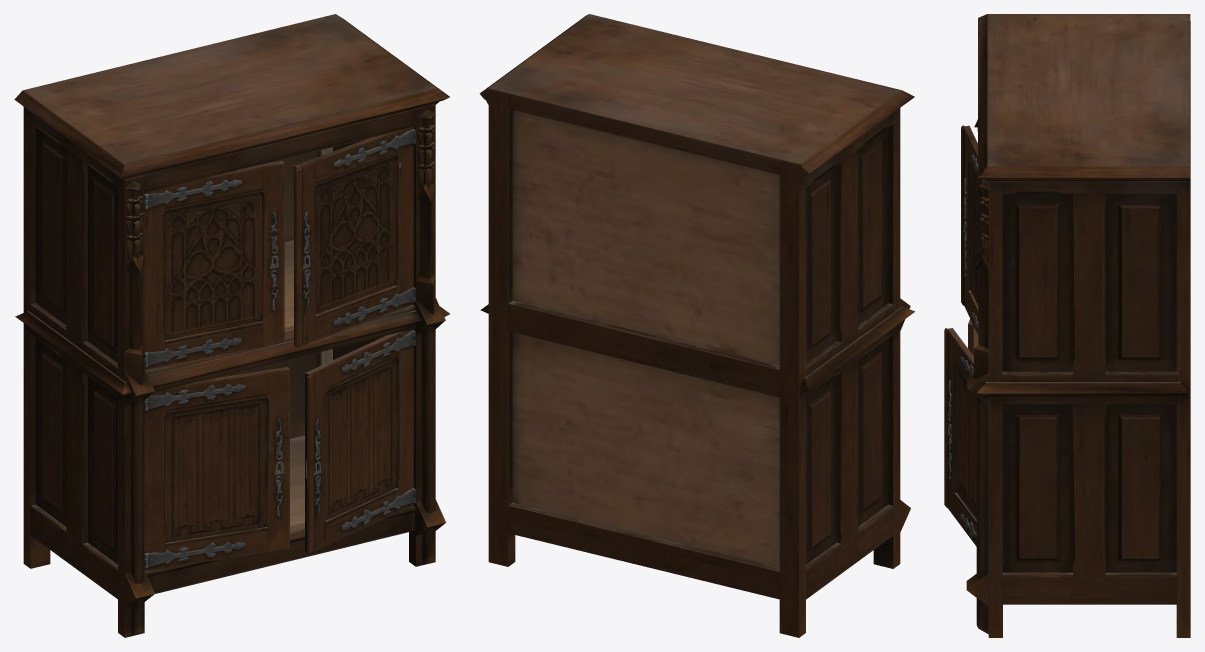
Rendered from GothicCabinet_01.glb.
The picture shows the model from 3 angles, left to right: view 1: azimuth 30°, elevation 25°; view 2: azimuth 150°, elevation 25°; view 3: azimuth 270°, elevation 25°; orthographic projection.
Visible parts, largest first — view 1: GothicCabinet_01_cabinet; view 2: GothicCabinet_01_cabinet; view 3: GothicCabinet_01_cabinet.
Boxes of the visible parts, x1,y1,x2,y2 form: GothicCabinet_01_cabinet: (14,14,449,637); GothicCabinet_01_cabinet: (479,14,914,637); GothicCabinet_01_cabinet: (944,14,1190,637).
Bounding box in the file's own units: 1.72 × 2.36 × 1.12.
1 material, 1 textured.
